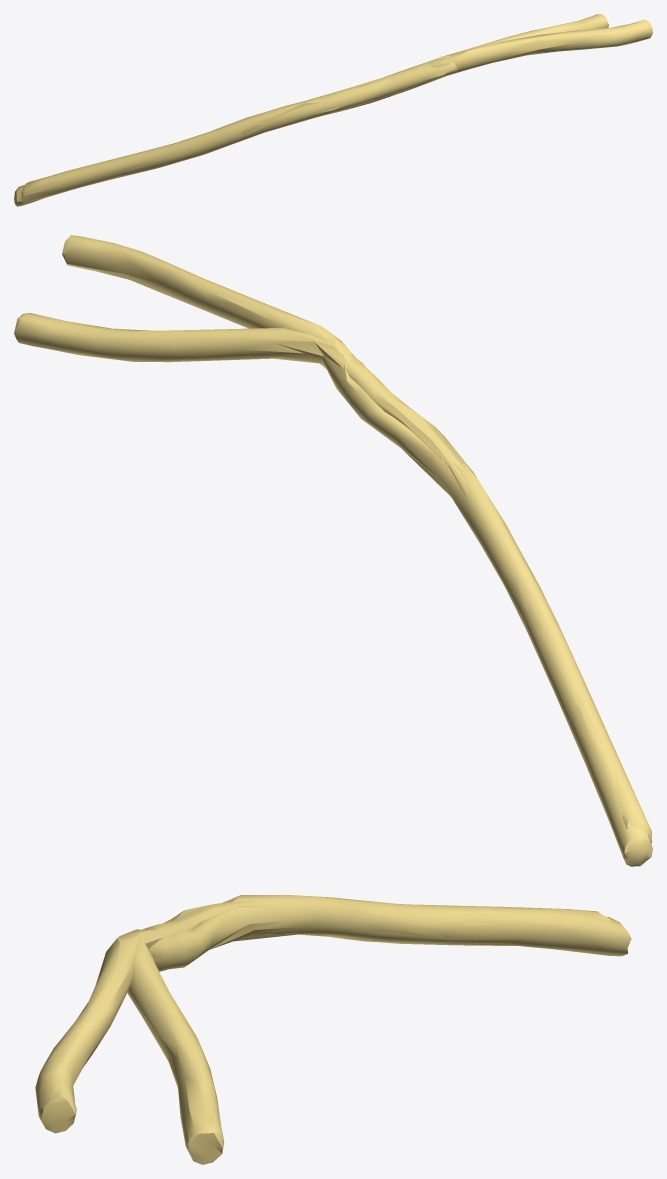
The model's file is fma53452_mm2610.glb.
The picture shows the model from 3 angles, top to bottom: view 1: azimuth 30°, elevation 25°; view 2: azimuth 150°, elevation 25°; view 3: azimuth 270°, elevation 25°; orthographic projection. The views are drawn at different scales.
Parts seen in each view (by area): view 1: FMA53452_MM2610; view 2: FMA53452_MM2610; view 3: FMA53452_MM2610.
Part boxes in pixels (x1,y1,x2,y2): FMA53452_MM2610: (14,14,652,206); FMA53452_MM2610: (14,235,652,866); FMA53452_MM2610: (35,895,631,1164).
Size of the model in its own units: 0.0227 by 0.0074 by 0.0118.
